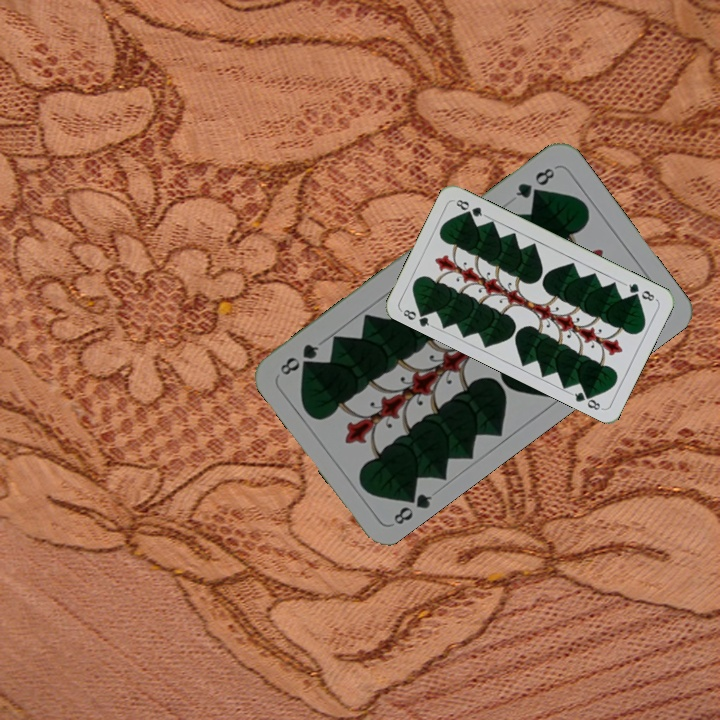G8: (389, 485, 435, 528), (511, 163, 558, 202), (397, 304, 435, 330), (621, 279, 659, 304)
